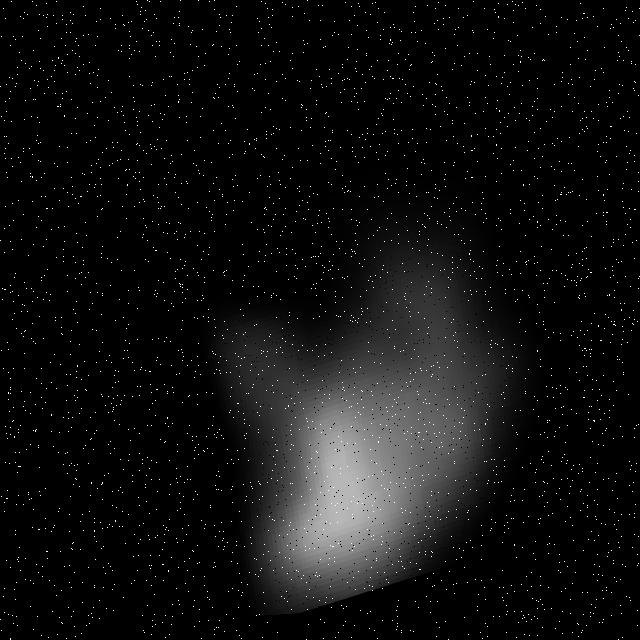person: (124, 90, 614, 631)
